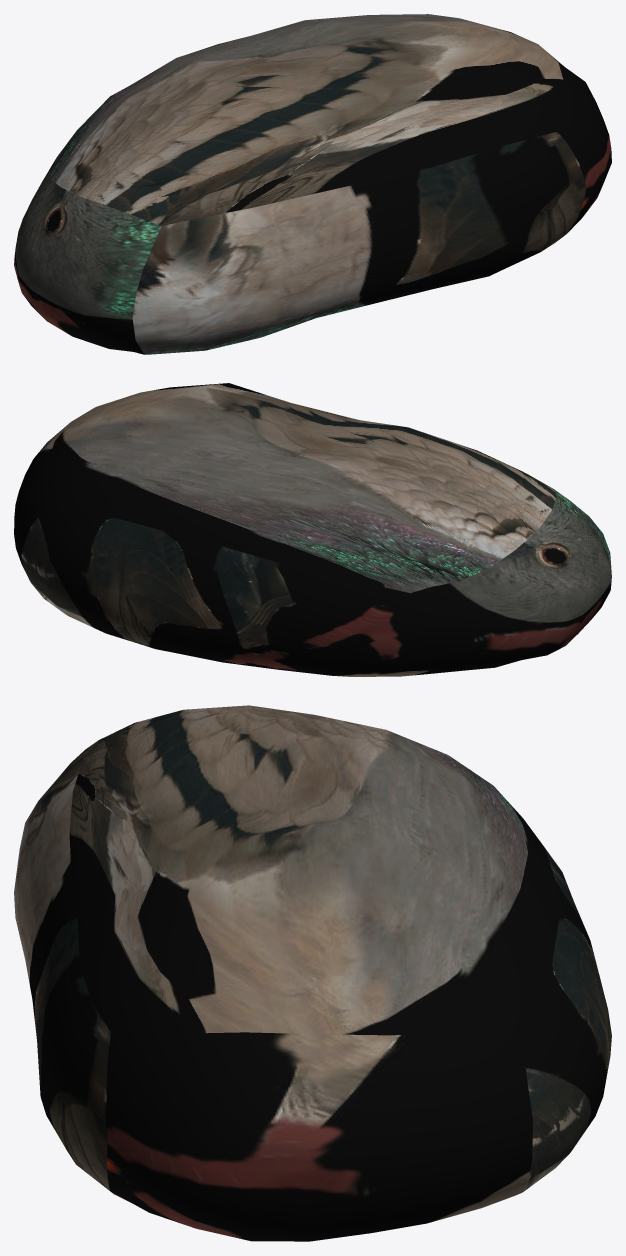
Rendered from Loaf of Bread for Export.obj.
3 renders of one model, top to bottom at view 1: azimuth 30°, elevation 25°; view 2: azimuth 150°, elevation 25°; view 3: azimuth 270°, elevation 25°, orthographic. The views are drawn at different scales.
Visible parts, largest first — view 1: Loaf_of_Bread_Cube.001; view 2: Loaf_of_Bread_Cube.001; view 3: Loaf_of_Bread_Cube.001.
Boxes of the visible parts, x1,y1,x2,y2 form: Loaf_of_Bread_Cube.001: [14, 14, 611, 354]; Loaf_of_Bread_Cube.001: [14, 383, 611, 676]; Loaf_of_Bread_Cube.001: [14, 705, 611, 1241].
Size of the model in its own units: 0.3003 by 0.0965 by 0.1855.
